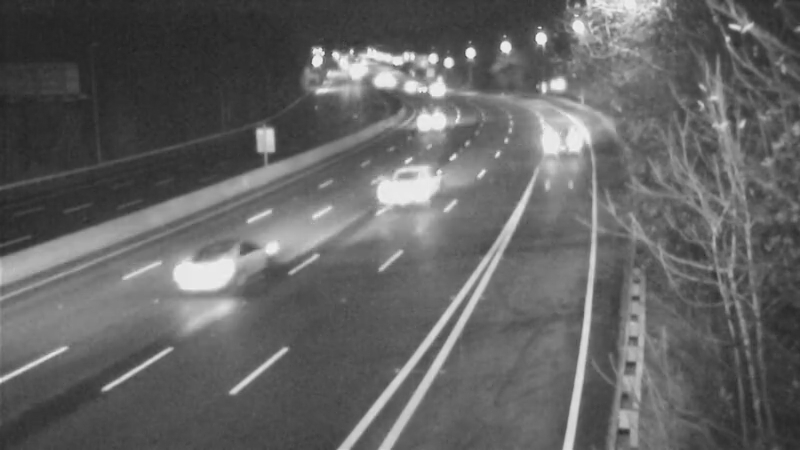vehicle: (368, 155, 448, 235), (162, 227, 242, 307), (385, 61, 435, 111), (397, 68, 447, 118), (415, 64, 465, 114), (407, 97, 457, 147), (536, 114, 586, 164)
